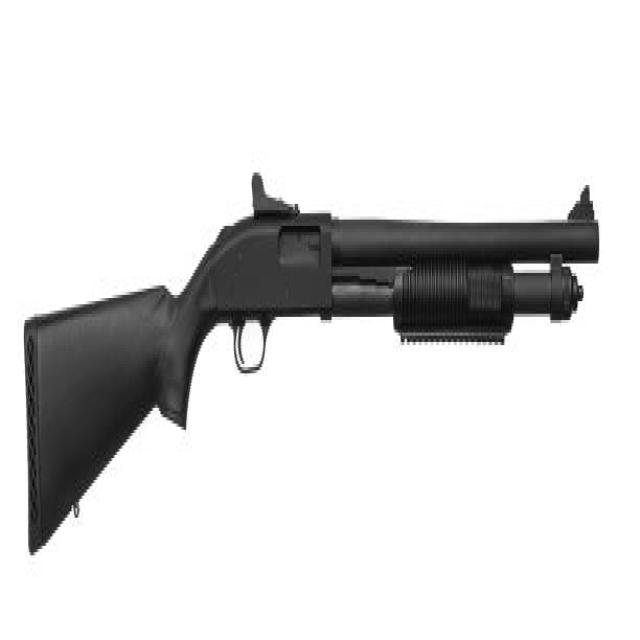rifle: (20, 144, 606, 570)
